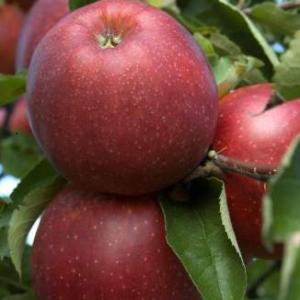apple: (23, 2, 221, 191), (31, 189, 203, 299), (209, 84, 300, 256)
